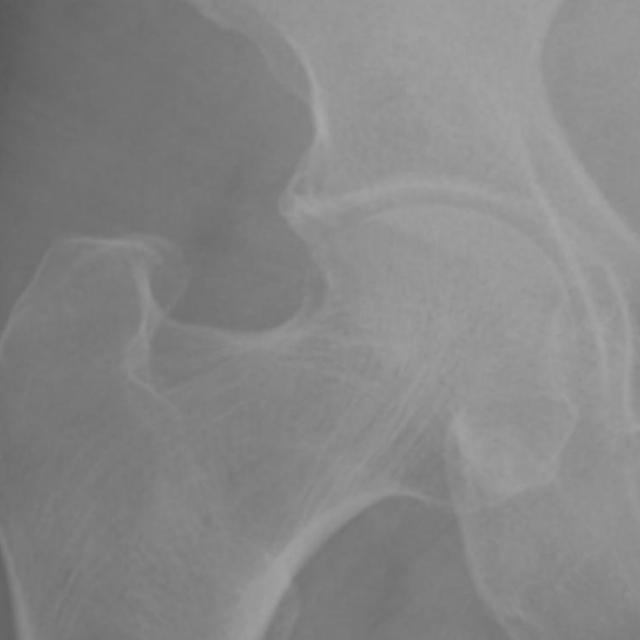Fitted_femural_head: (313, 204, 432, 313)
